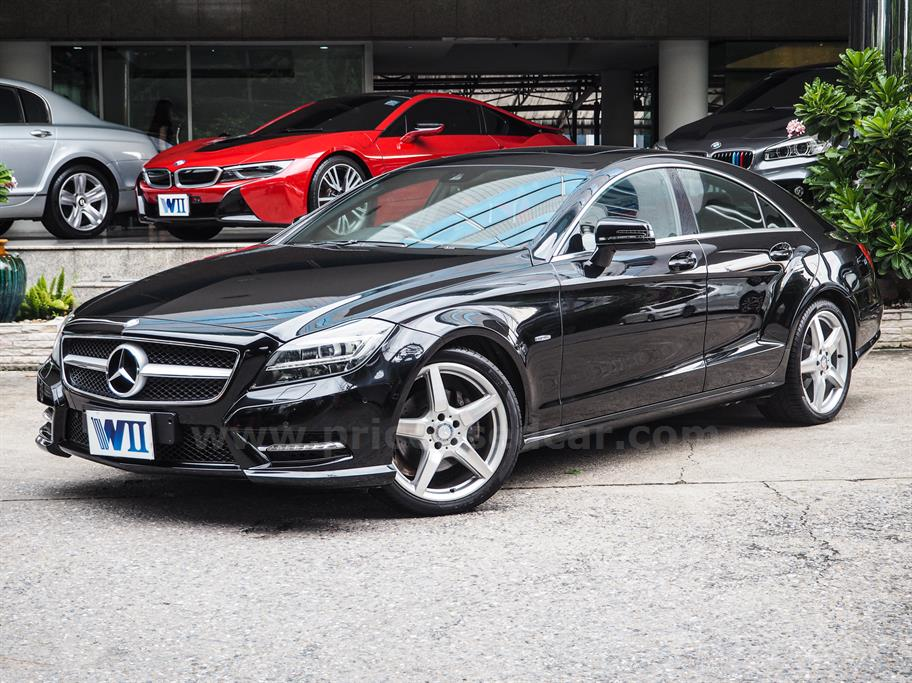sedan: (33, 146, 884, 513)
